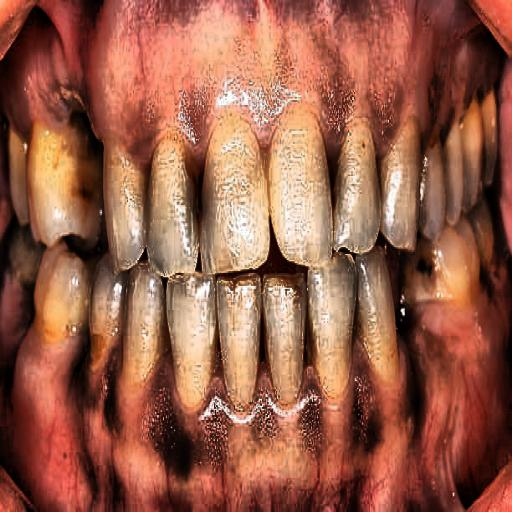Calculus: (198, 63, 430, 421), (6, 62, 193, 427), (436, 64, 512, 348)
